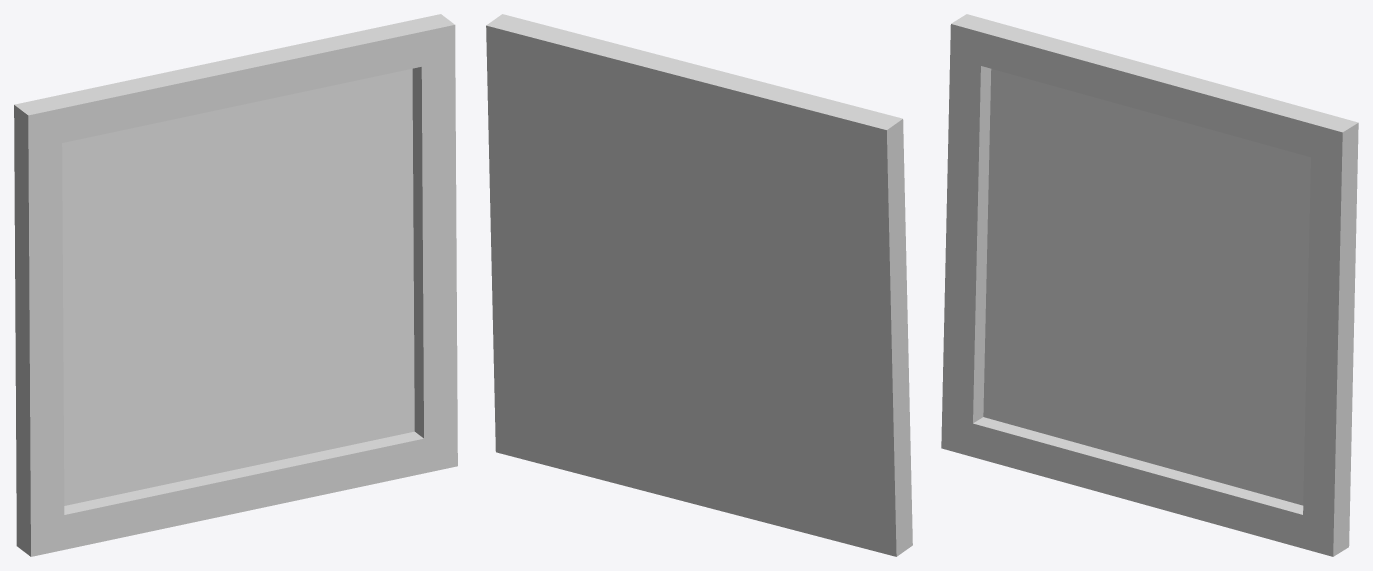
Rendered from picFrame01.fbx.
3 renders of one model, left to right at view 1: azimuth 30°, elevation 25°; view 2: azimuth 150°, elevation 25°; view 3: azimuth 330°, elevation 25°, orthographic. The views are drawn at different scales.
Parts seen in each view (by area): view 1: picFrame01.001; view 2: picFrame01.001; view 3: picFrame01.001.
Boxes of the visible parts, bbox=[...] form: picFrame01.001: bbox=[14, 14, 457, 556]; picFrame01.001: bbox=[486, 14, 912, 556]; picFrame01.001: bbox=[941, 14, 1358, 556].
Bounding box in the file's own units: 1.01 × 1.01 × 0.1333.
